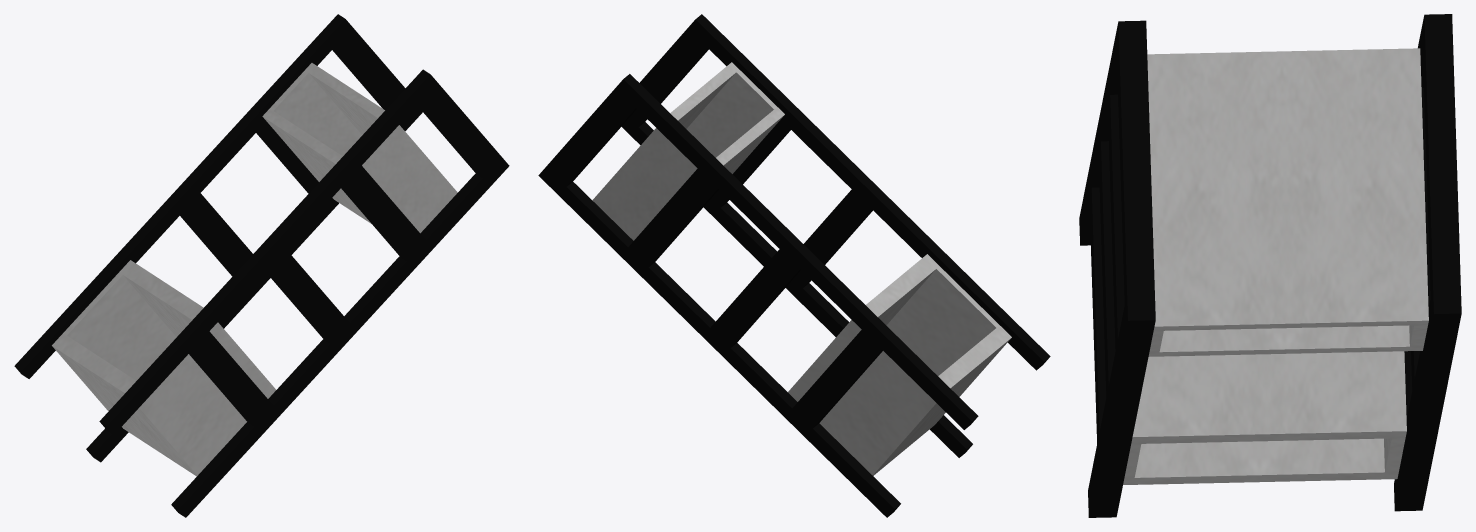
Rendered from Mueble.fbx.
The picture shows the model from 3 angles, left to right: view 1: azimuth 30°, elevation 25°; view 2: azimuth 150°, elevation 25°; view 3: azimuth 270°, elevation 25°; orthographic projection. The views are drawn at different scales.
Visible parts, largest first — view 1: Cube.009; view 2: Cube.009; view 3: Cube.009.
Part boxes in pixels (bbox=[...]): Cube.009: bbox=[14, 14, 509, 517]; Cube.009: bbox=[538, 14, 1050, 517]; Cube.009: bbox=[1079, 14, 1461, 517].
Bounding box in the file's own units: 172 × 146 × 68.66.
2 materials, 1 textured.
